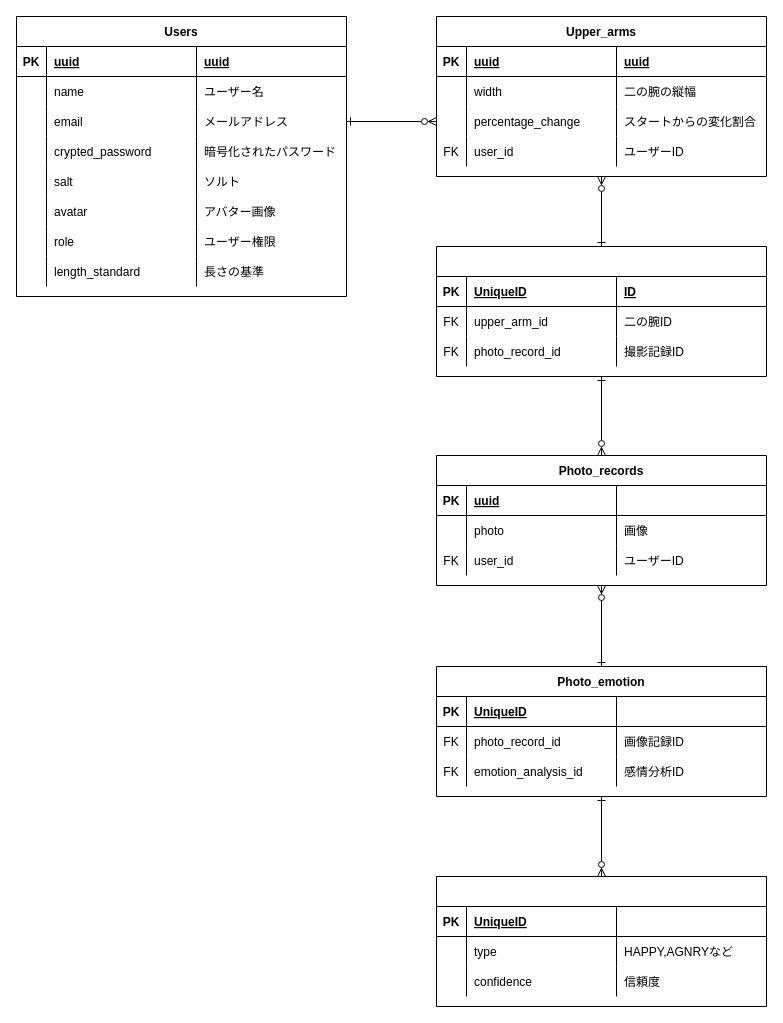
This 783x1023 diagram has some shape labels left out. The shapes that lost their labels are listed below. From the top down, each one's box as (x1, y1, x2, y2) in pixels, then its label:
(436, 246, 766, 376): Arms_photos
(436, 876, 766, 1006): Emotion_analysis
